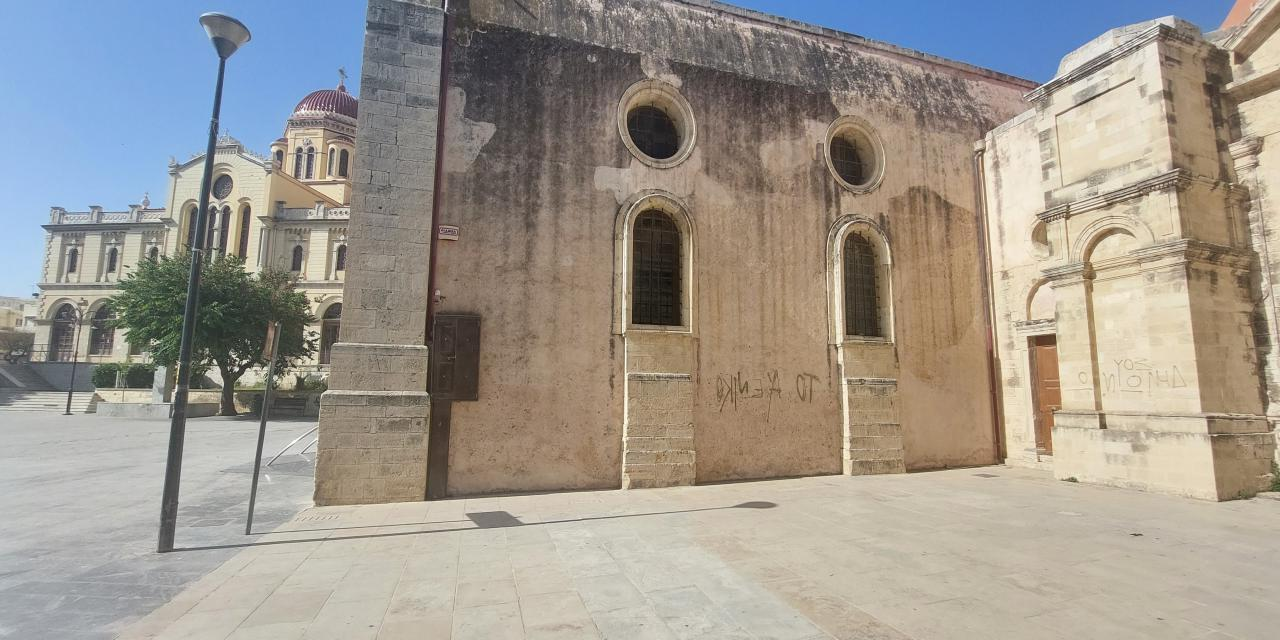Agia Aikaterini: (312, 1, 1280, 510)
